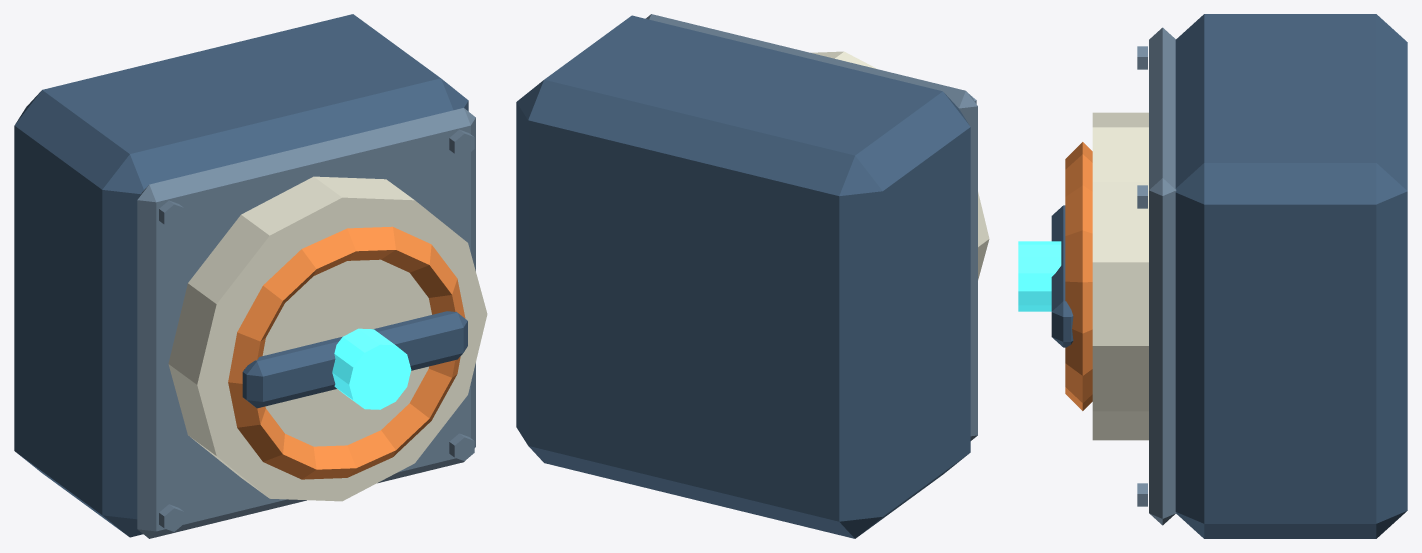
The model's file is turntable.glb.
The picture shows the model from 3 angles, left to right: view 1: azimuth 30°, elevation 25°; view 2: azimuth 150°, elevation 25°; view 3: azimuth 270°, elevation 25°; orthographic projection.
Visible parts, largest first — view 1: Structural core.002, Rotating hub, Front armor.002, Rotation ring, Hub bar, Axle; view 2: Structural core.002, Front armor.002, Rotating hub; view 3: Structural core.002, Rotating hub, Front armor.002, Rotation ring, Axle, Hub bar.
Boxes of the visible parts, box(x1,y1,x2,y2) form: Structural core.002: box(14, 14, 468, 537); Rotating hub: box(168, 176, 487, 501); Front armor.002: box(137, 108, 475, 538); Rotation ring: box(228, 226, 465, 479); Hub bar: box(242, 311, 467, 408); Axle: box(332, 328, 411, 409); Structural core.002: box(516, 15, 970, 538); Front armor.002: box(646, 14, 977, 440); Rotating hub: box(811, 51, 989, 279); Structural core.002: box(1175, 14, 1407, 538); Rotating hub: box(1092, 112, 1148, 440); Front armor.002: box(1149, 27, 1176, 525); Rotation ring: box(1065, 142, 1092, 410); Axle: box(1018, 241, 1061, 311); Hub bar: box(1051, 205, 1073, 347).
Bounding box in the file's own units: 1.06 × 1.06 × 0.995.
